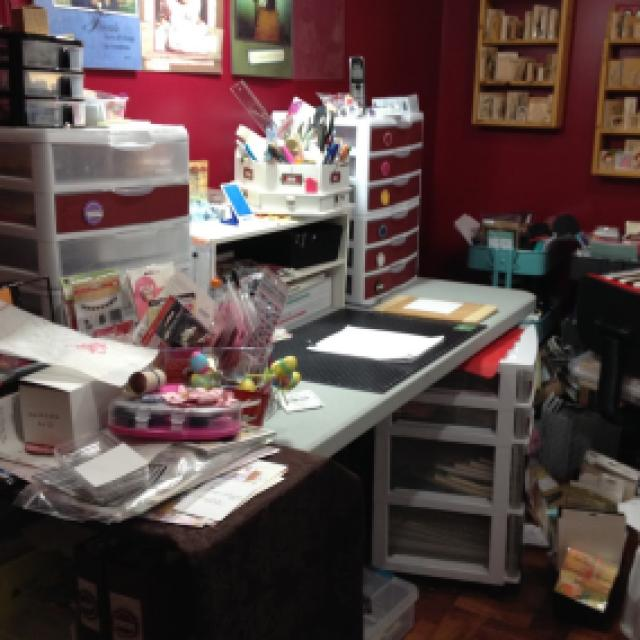scattered-items: (6, 264, 338, 534), (453, 252, 640, 640)
